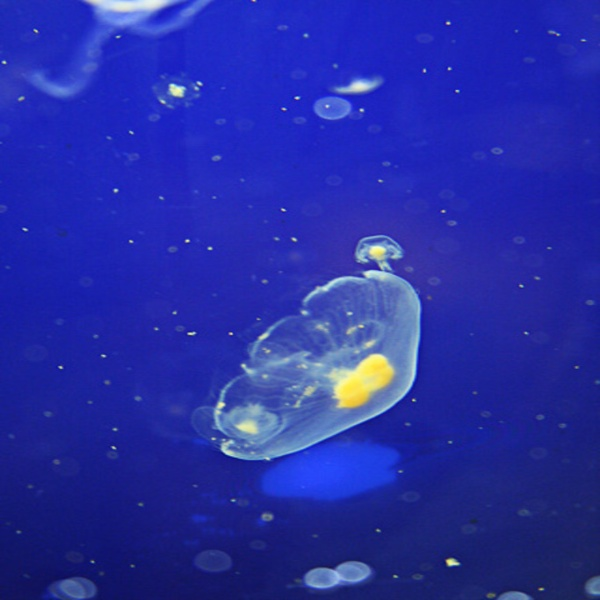Jellyfish: (207, 260, 435, 463)
